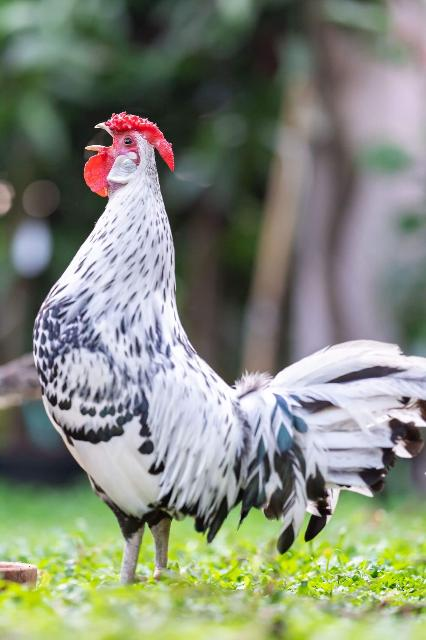Chicken: (31, 111, 426, 584)
